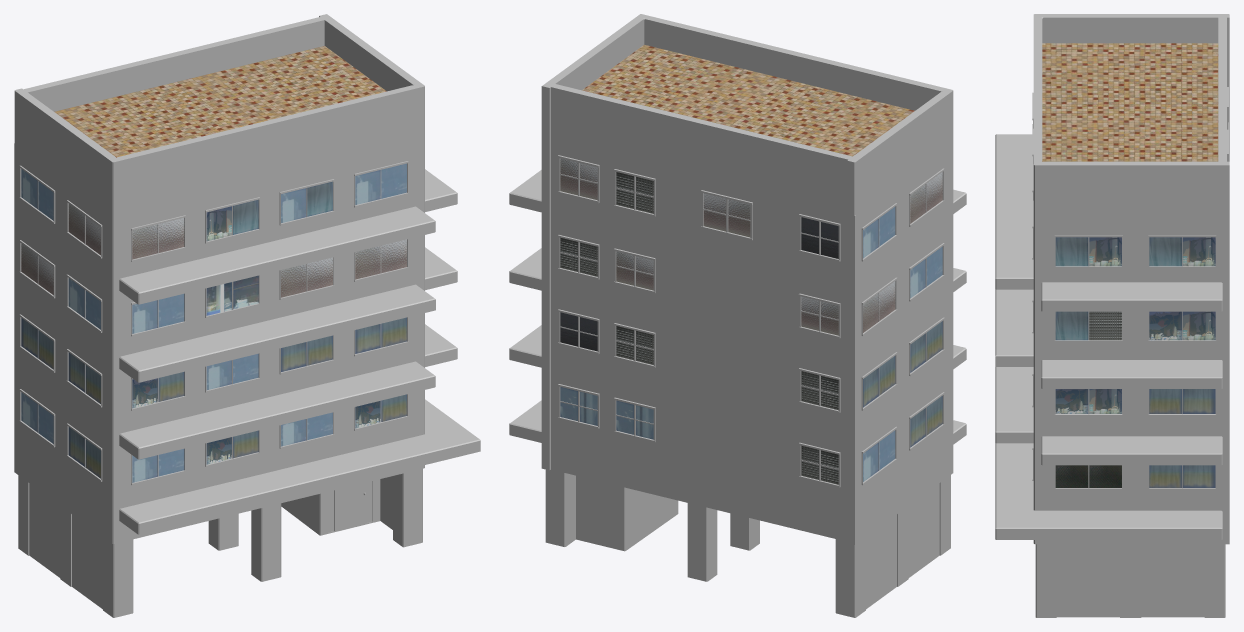
File: apart_high_7a.fbx
The picture shows the model from 3 angles, left to right: view 1: azimuth 30°, elevation 25°; view 2: azimuth 150°, elevation 25°; view 3: azimuth 270°, elevation 25°; orthographic projection.
Visible parts, largest first — view 1: apart_high_7a; view 2: apart_high_7a; view 3: apart_high_7a.
Part boxes in pixels (bbox=[...]): apart_high_7a: bbox=[14, 14, 480, 617]; apart_high_7a: bbox=[509, 14, 966, 617]; apart_high_7a: bbox=[995, 14, 1229, 617].
Size of the model in its own units: 12.39 by 15.43 by 7.23.
